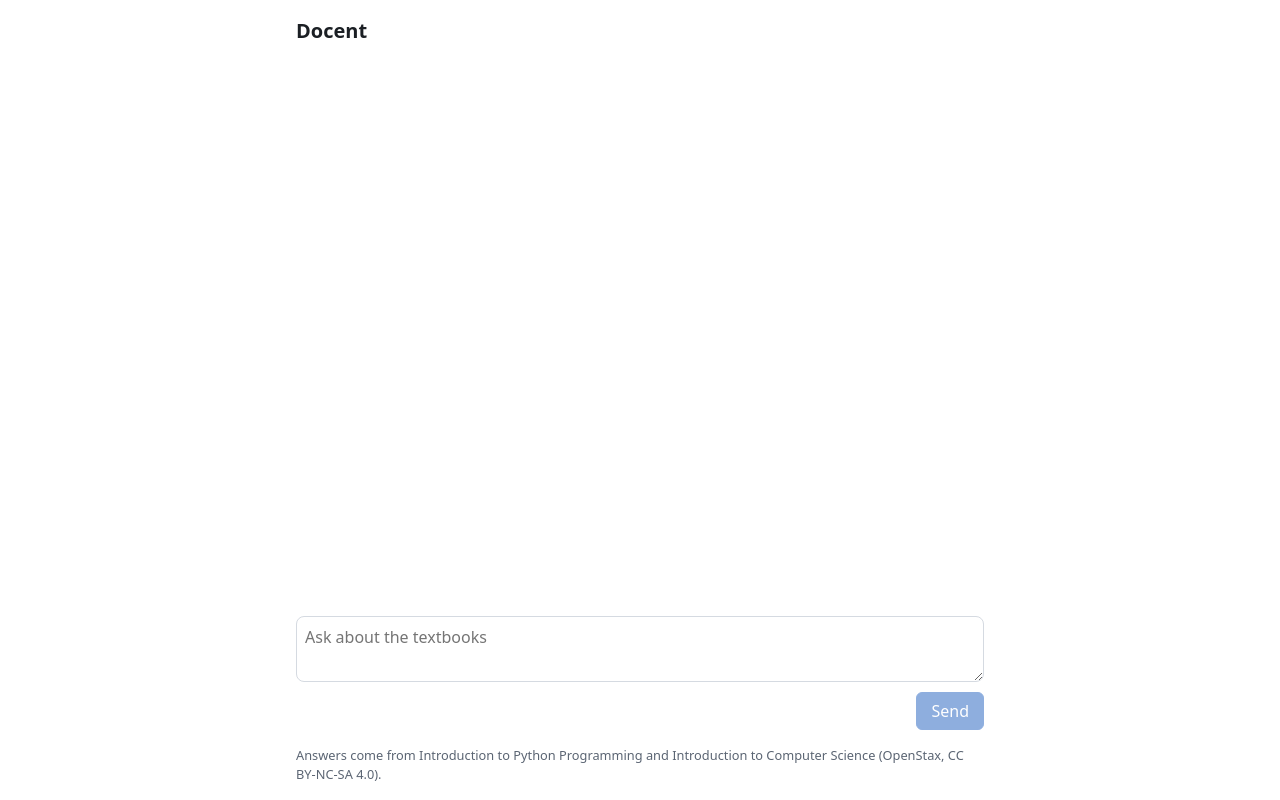
panel and chips › opens a chip with Tab then Enter
Type "How does precedence work?" into the text box named "Question".
click(640, 649); type("How does precedence work?")  # box x1=296 y1=616 x2=984 y2=682
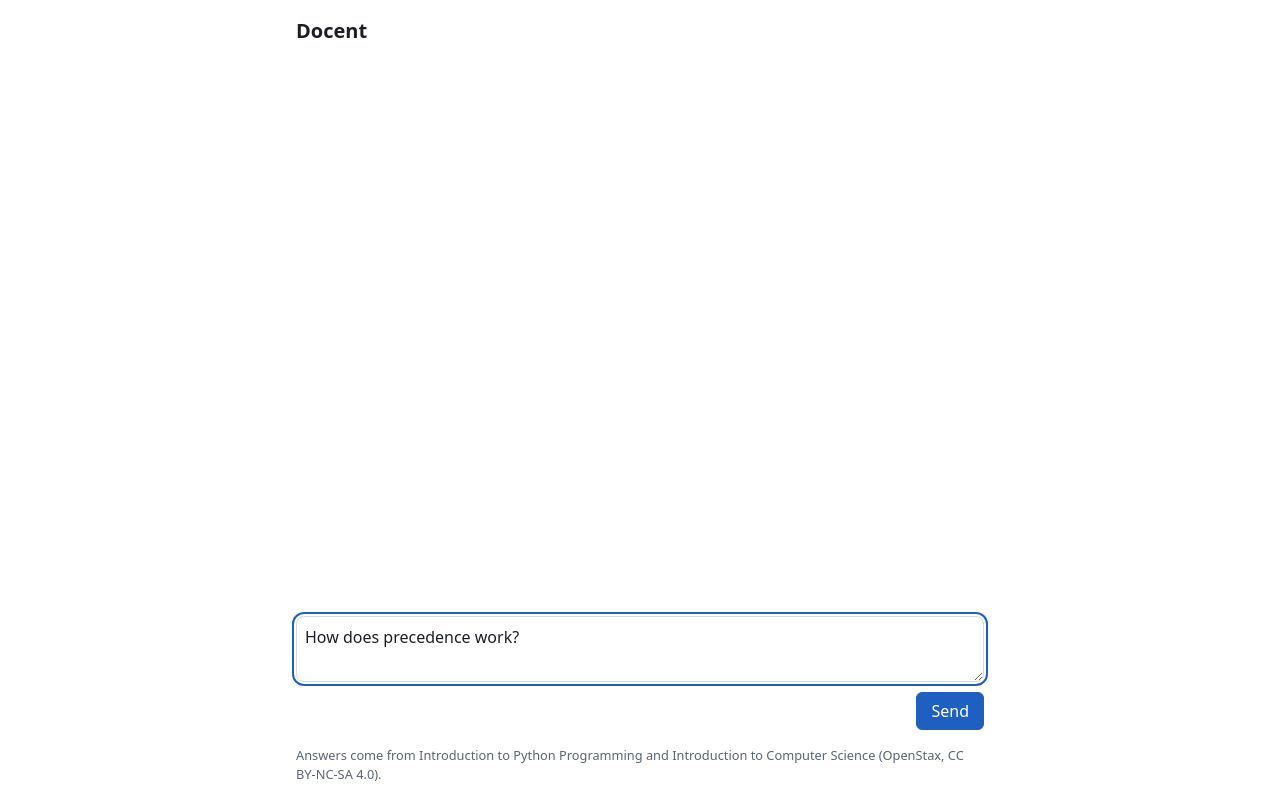
Press Enter
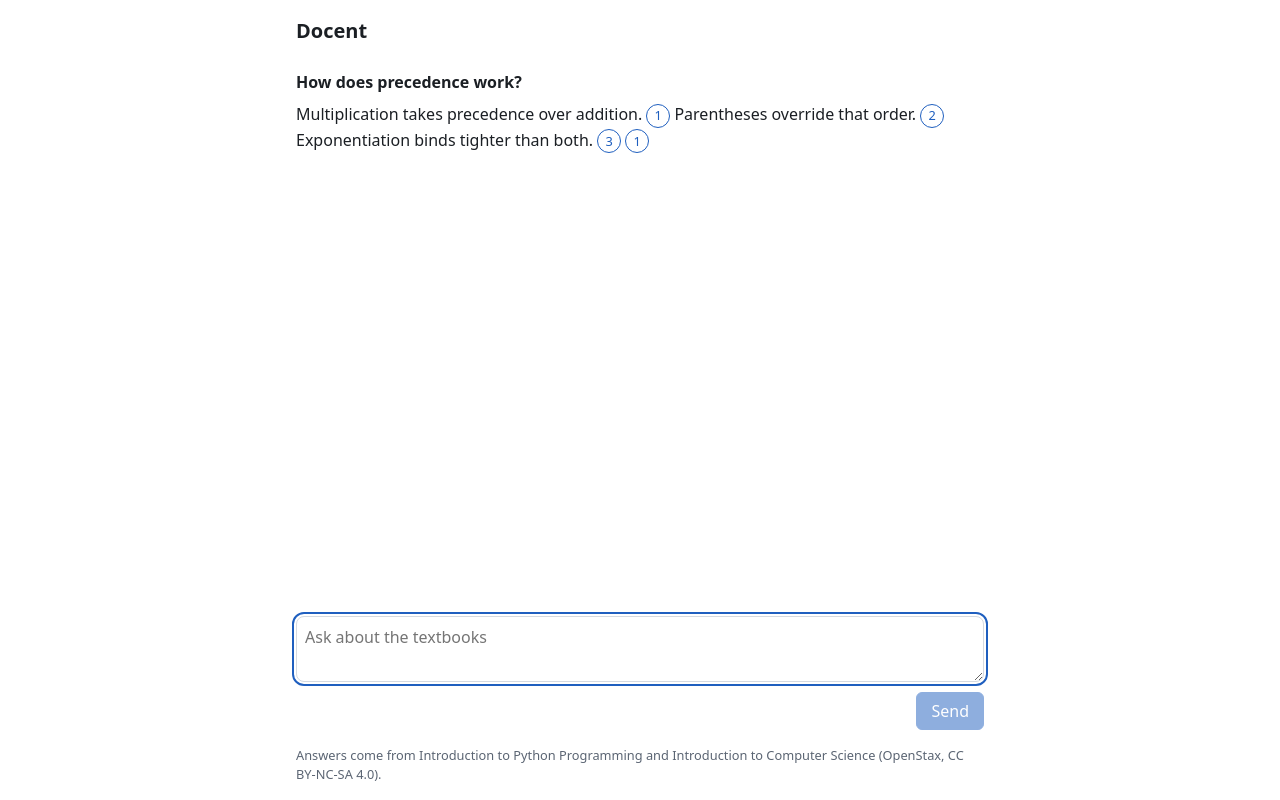
Click the element that starts with "Docent".
click(640, 400)  # box x1=0 y1=0 x2=1279 y2=799
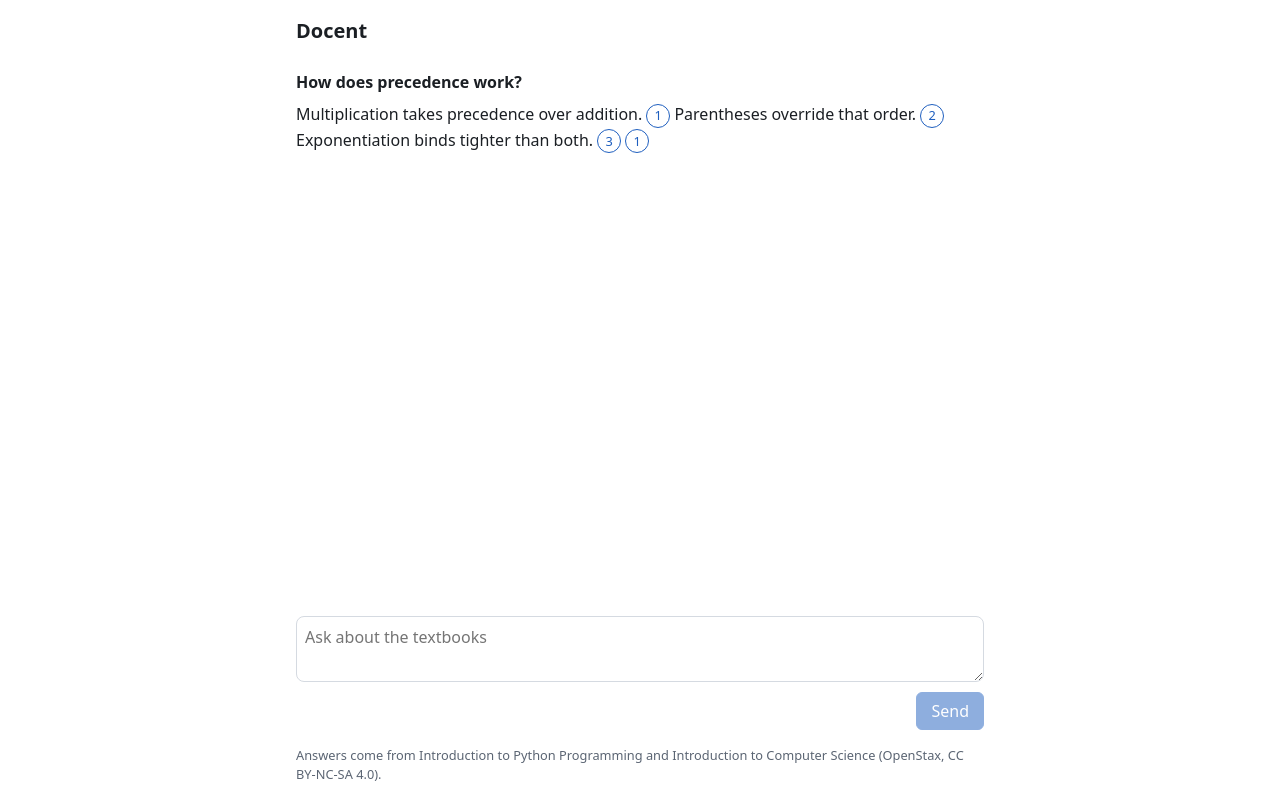
Press Tab
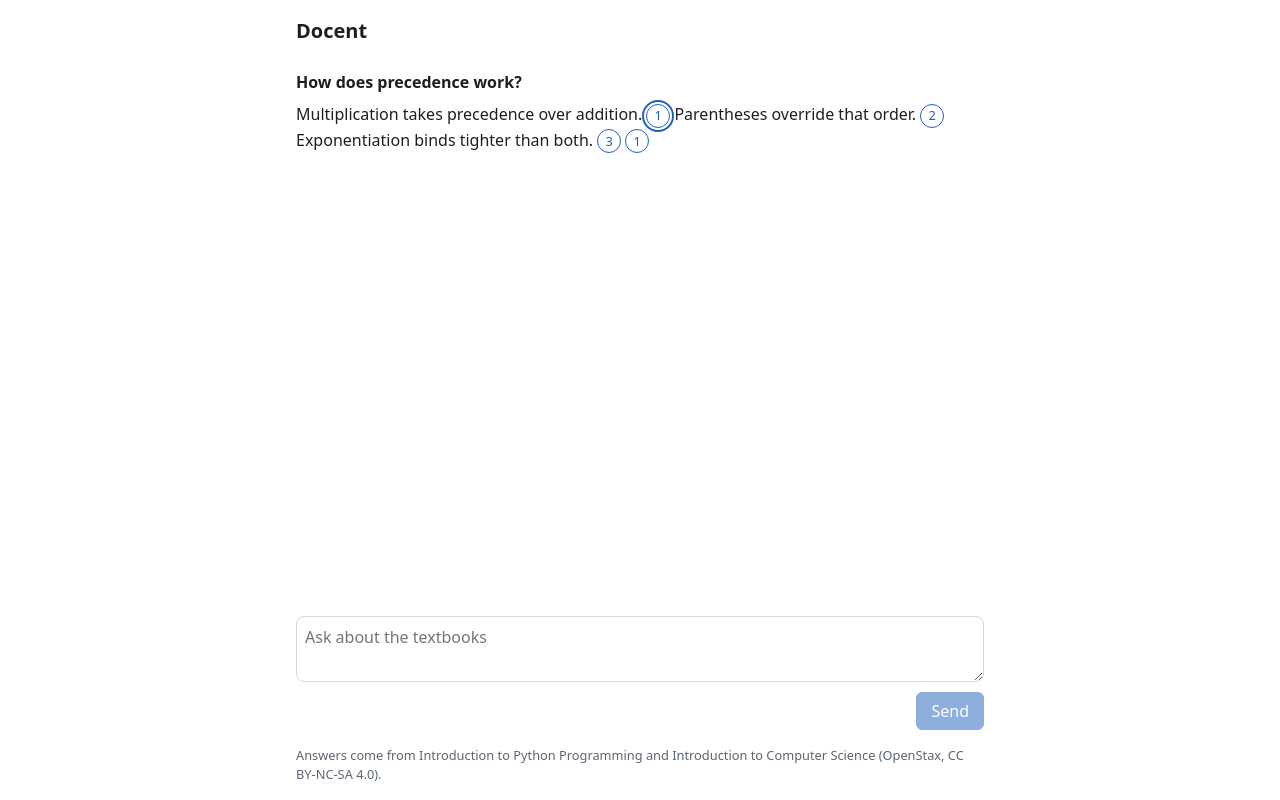
Press Enter
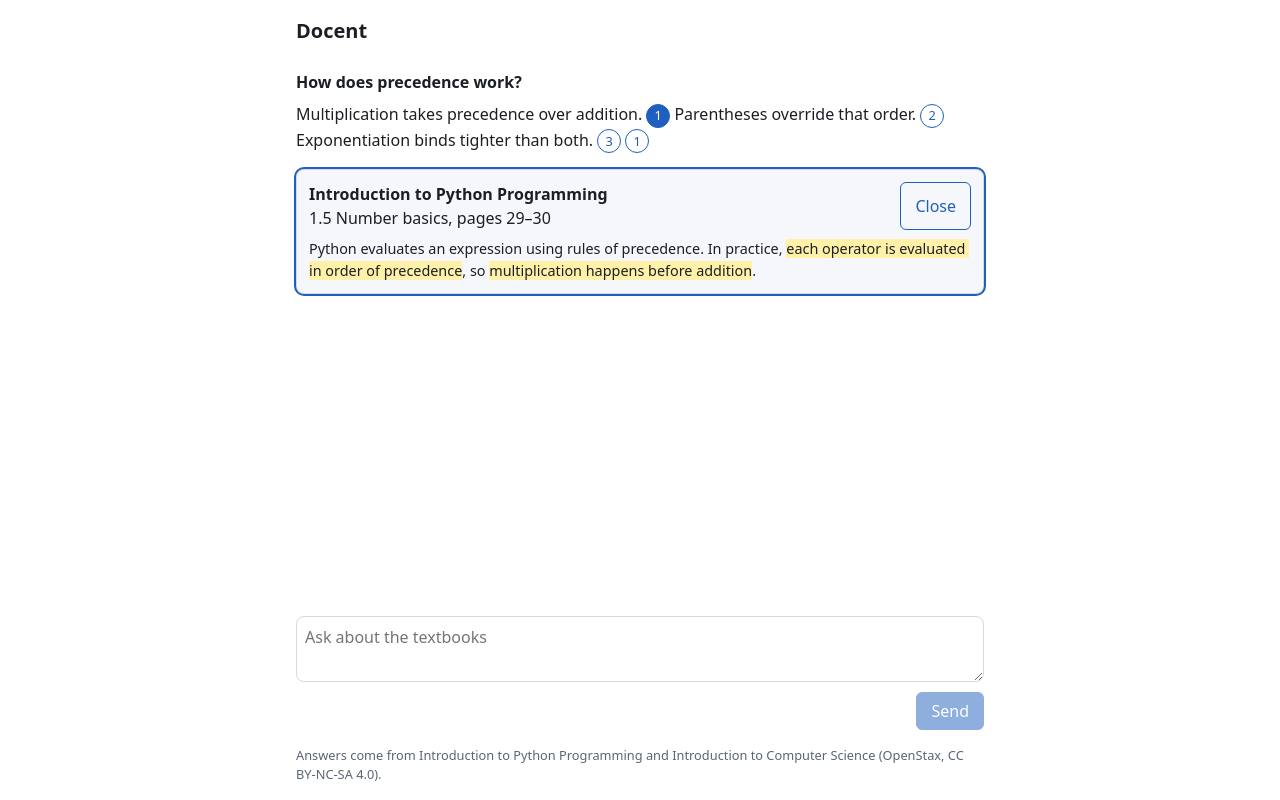
Expected: the dialog is shown, x1=296 y1=169 x2=984 y2=294
